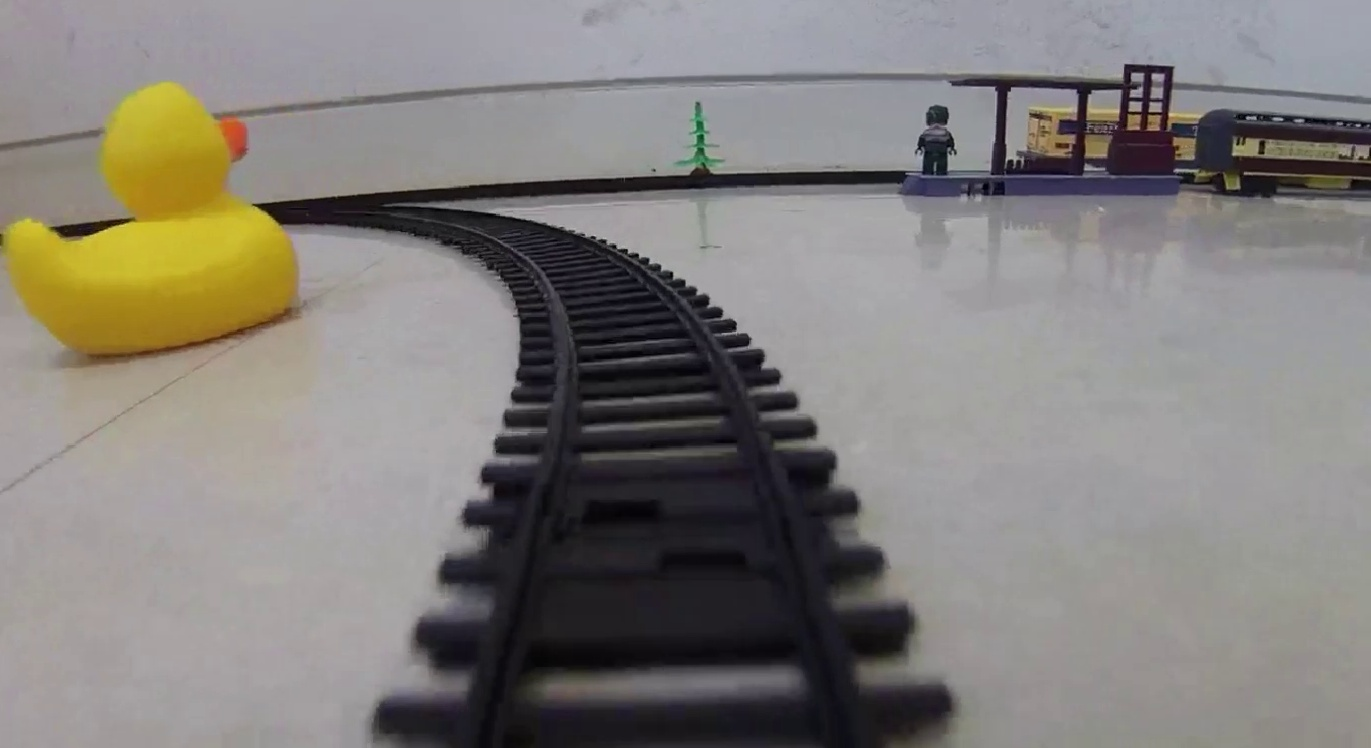people: (913, 103, 960, 175)
tree: (672, 99, 728, 180)
